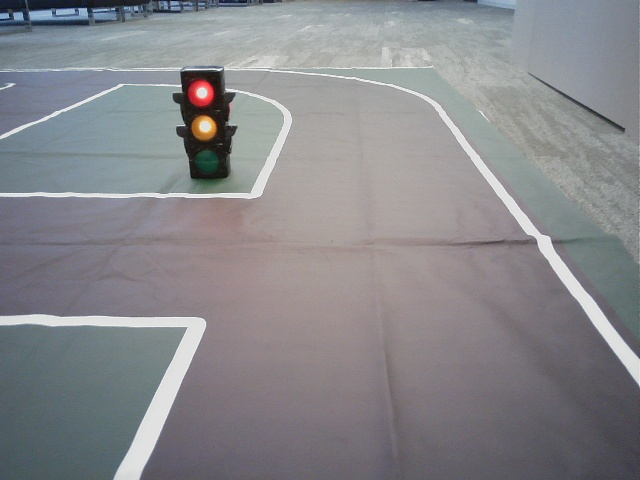red: (181, 74, 228, 177)
